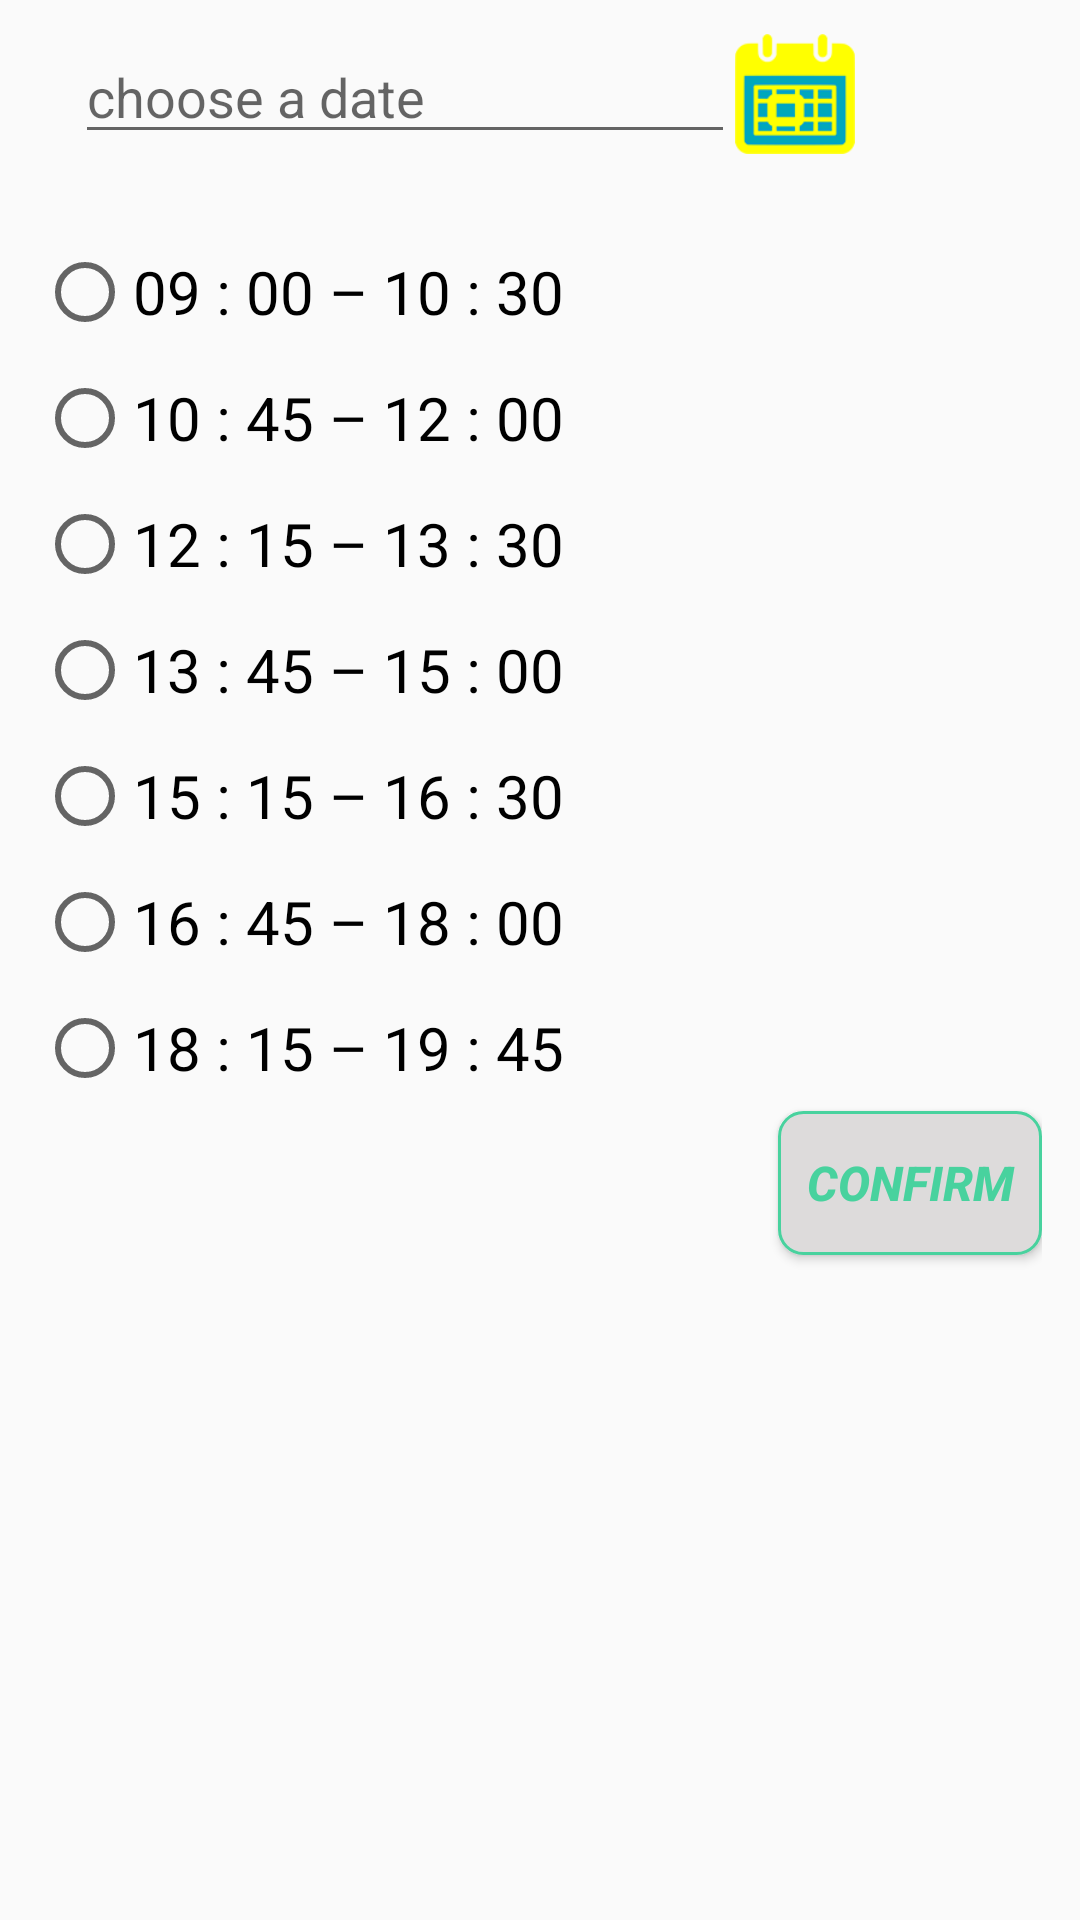

Screen size 1080 × 1920. Icon name, then its box in pixels as [x1=x1, y1=y1, x2=x2, y2=y2]:
calend: [x1=735, y1=34, x2=855, y2=154]
